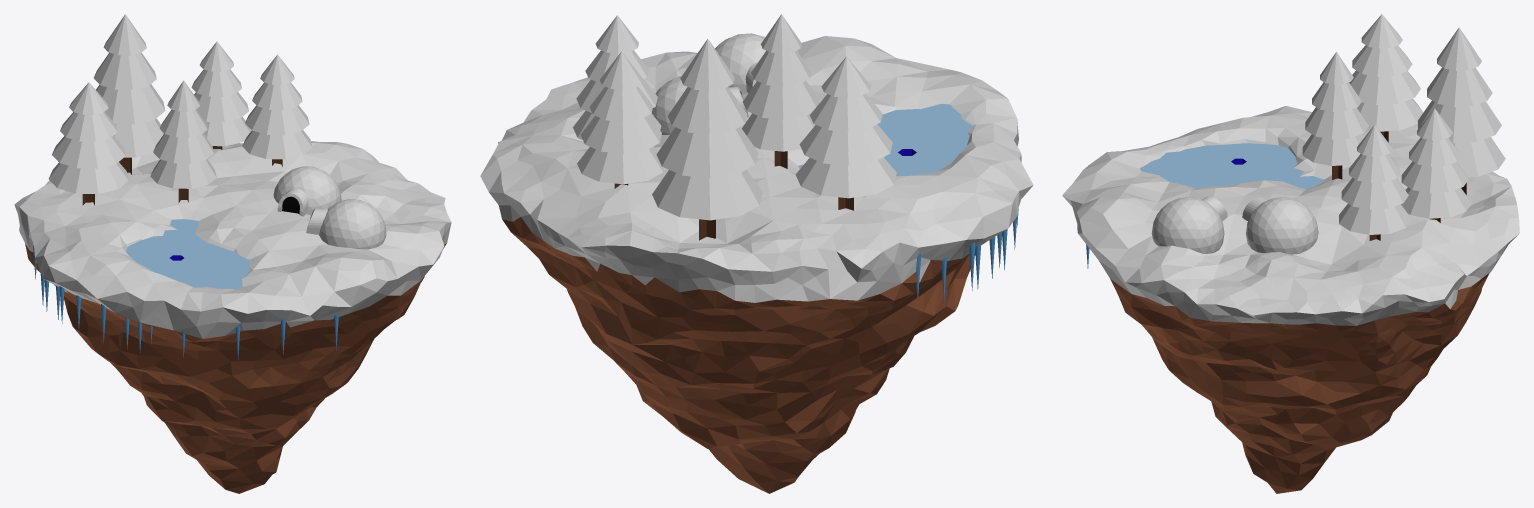
3 views of the same model, side by side, from view 1: azimuth 30°, elevation 25°; view 2: azimuth 150°, elevation 25°; view 3: azimuth 270°, elevation 25° (orthographic). The views are drawn at different scales.
Parts seen in each view (by area): view 1: Cone.012_Cone.015; view 2: Cone.012_Cone.015; view 3: Cone.012_Cone.015.
Part boxes in pixels (x1=…): Cone.012_Cone.015: x1=14, y1=14, x2=451, y2=493; Cone.012_Cone.015: x1=480, y1=14, x2=1033, y2=493; Cone.012_Cone.015: x1=1062, y1=14, x2=1519, y2=493.
Bounding box in the file's own units: 12.74 × 13.5 × 12.58.
1 material, 1 textured.
